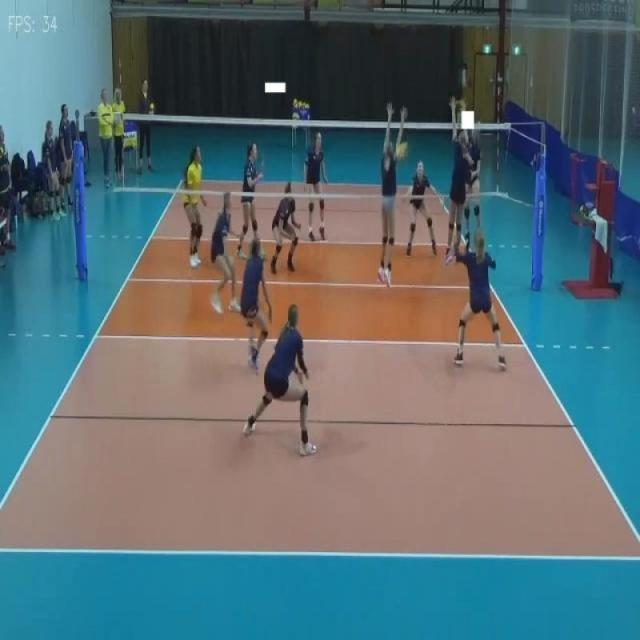volleyball: (394, 140, 409, 161), (292, 98, 299, 109), (292, 111, 299, 120), (302, 102, 310, 109), (149, 102, 155, 110), (298, 100, 302, 108)
